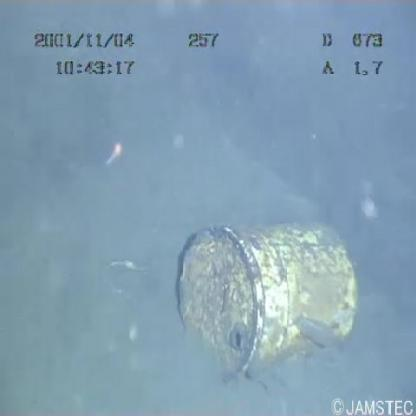Rác: (151, 204, 377, 392)
